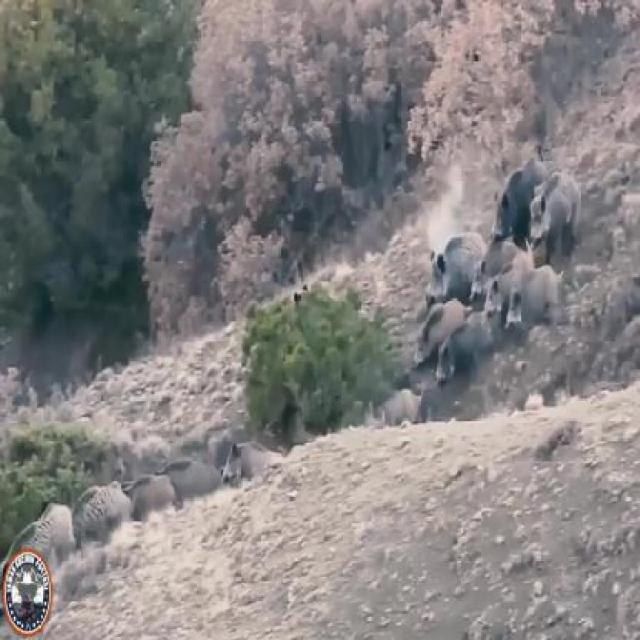WildBoar: (525, 163, 590, 259), (482, 156, 543, 250), (427, 321, 508, 387), (504, 264, 573, 341), (405, 296, 470, 367), (423, 232, 483, 308), (482, 261, 542, 328), (463, 236, 515, 310)
